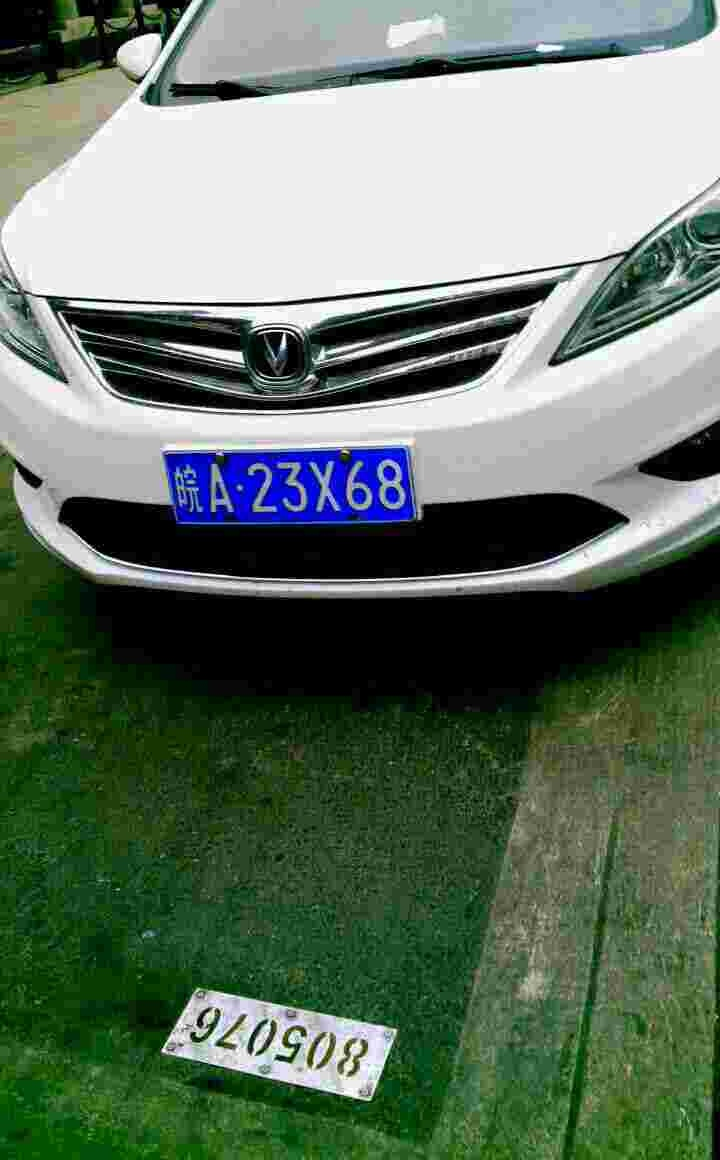plate: (162, 442, 422, 531)
